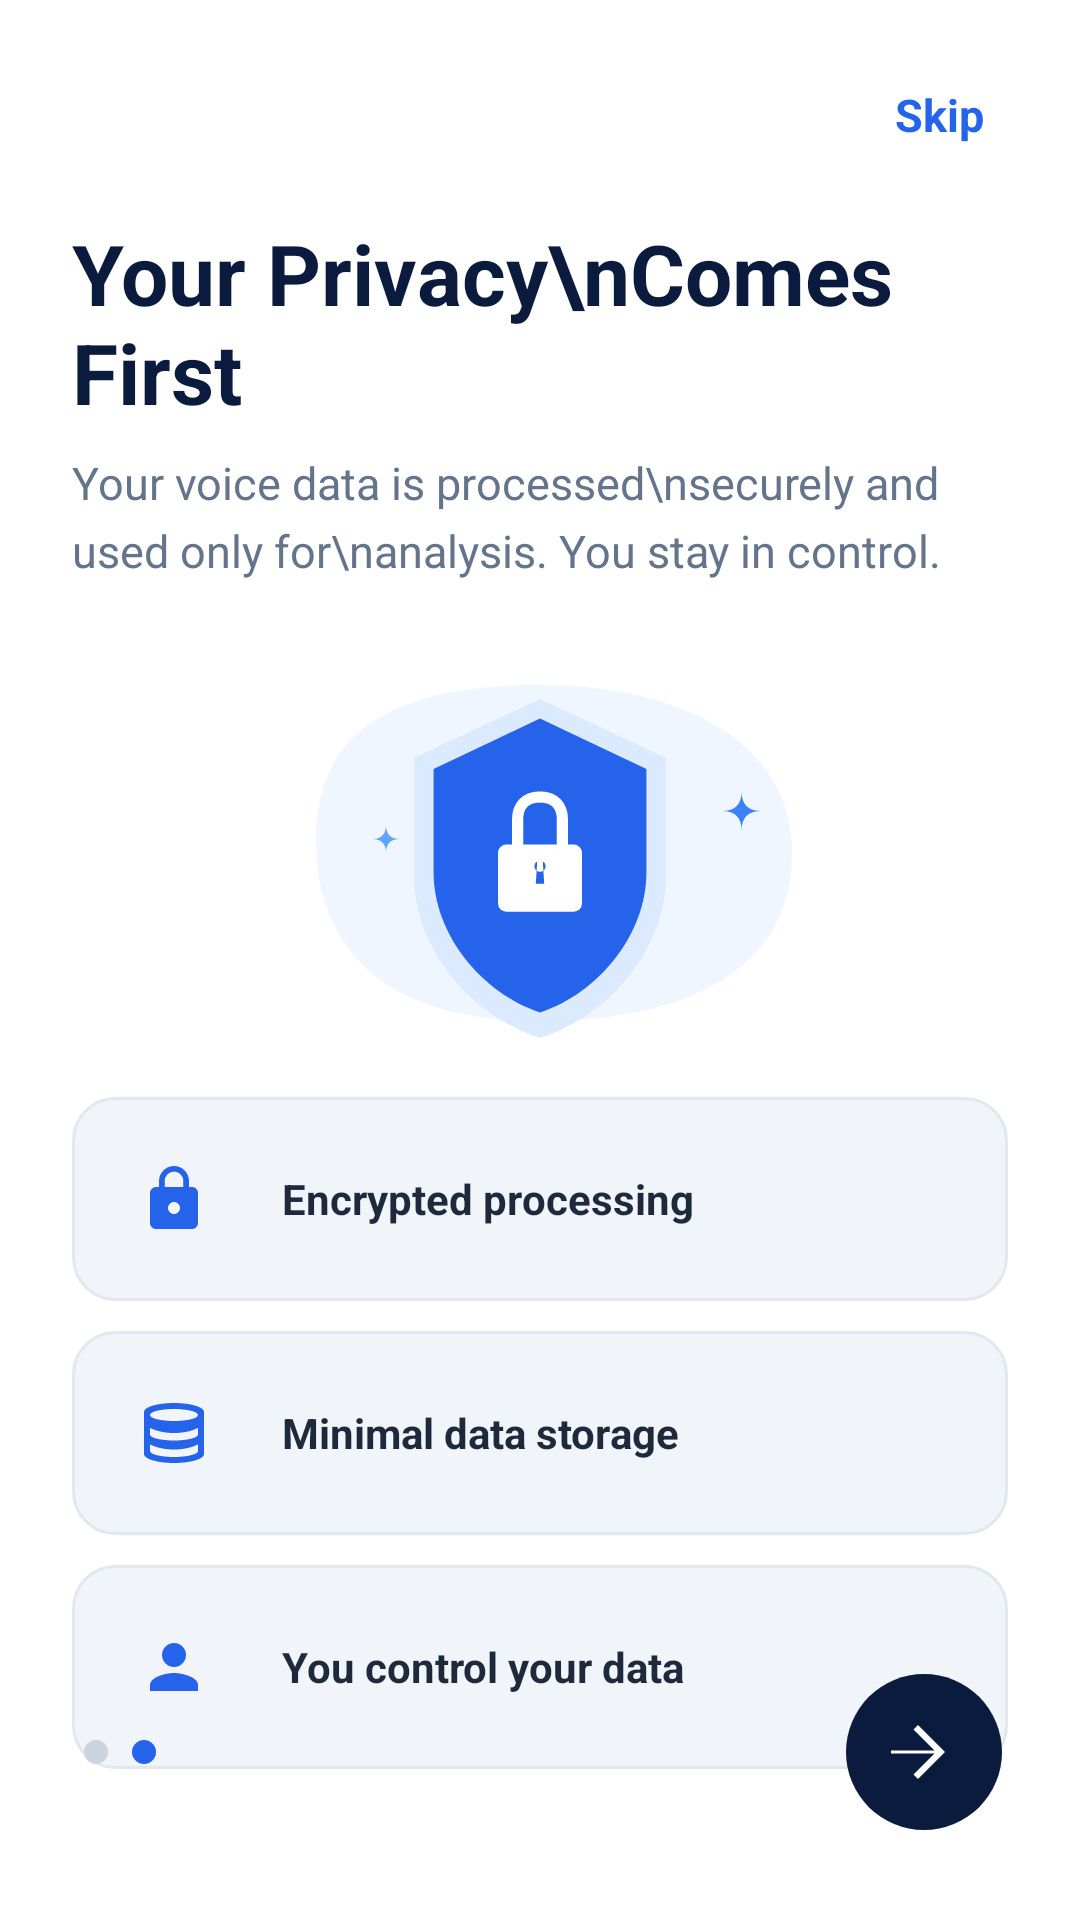

Icons on this 1080px×1920px Android screen, each with the point to tap as point (x, y):
dot: point (144, 1752)
Encrypted Lock Icon: point (174, 1197)
Next: point (924, 1749)
User Data Control Icon: point (174, 1667)
